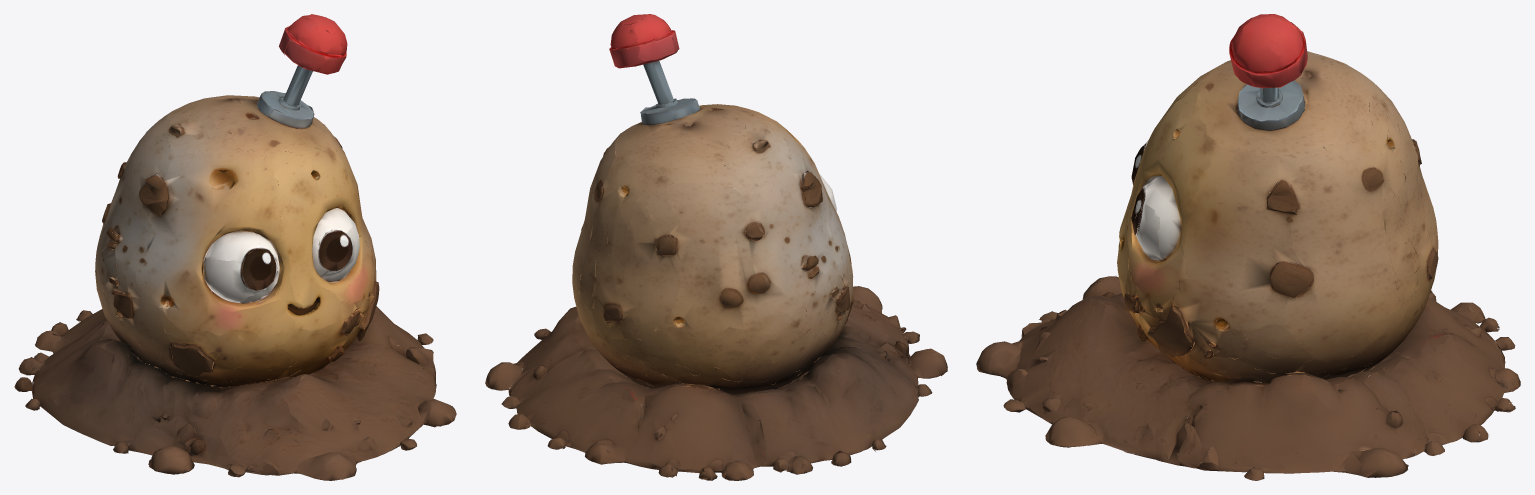
Rendered from PotatoMine.fbx.
3 renders of one model, left to right at view 1: azimuth 30°, elevation 25°; view 2: azimuth 150°, elevation 25°; view 3: azimuth 270°, elevation 25°, orthographic. The views are drawn at different scales.
Visible parts, largest first — view 1: node_0; view 2: node_0; view 3: node_0.
Part boxes in pixels (x1=…): node_0: x1=14, y1=14, x2=456, y2=480; node_0: x1=485, y1=14, x2=947, y2=480; node_0: x1=976, y1=14, x2=1520, y2=480.
Size of the model in its own units: 96.64 by 85.28 by 105.
1 material, 1 textured.
